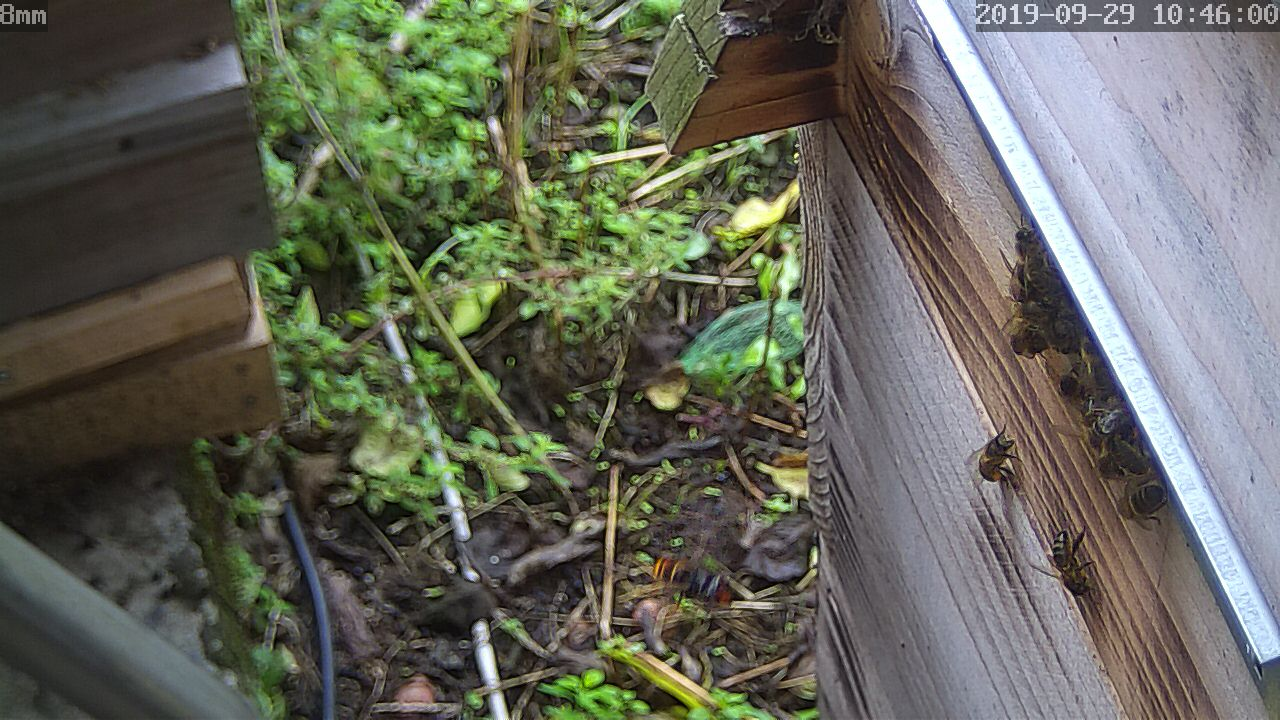bee: (1006, 300, 1116, 403), (1068, 404, 1140, 483), (1000, 218, 1066, 301), (1039, 520, 1104, 603), (963, 432, 1028, 495), (1099, 478, 1155, 525)
hornet: (644, 552, 739, 613)
